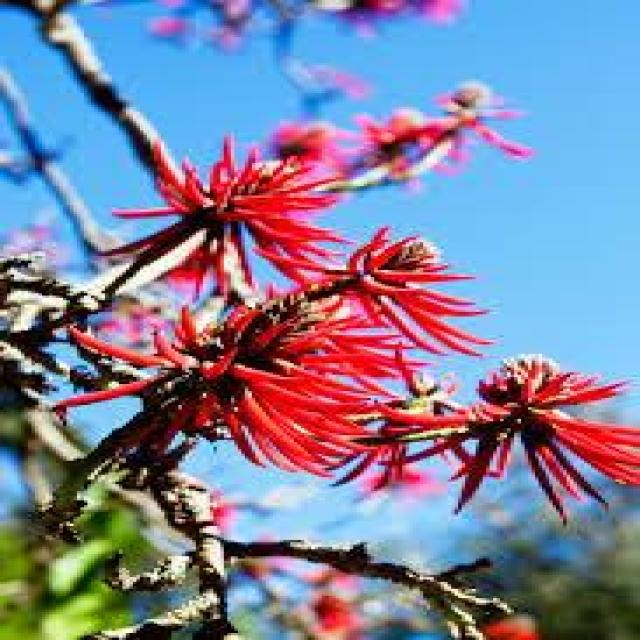organic waste: (166, 227, 457, 480), (455, 355, 626, 494), (142, 155, 334, 262)
